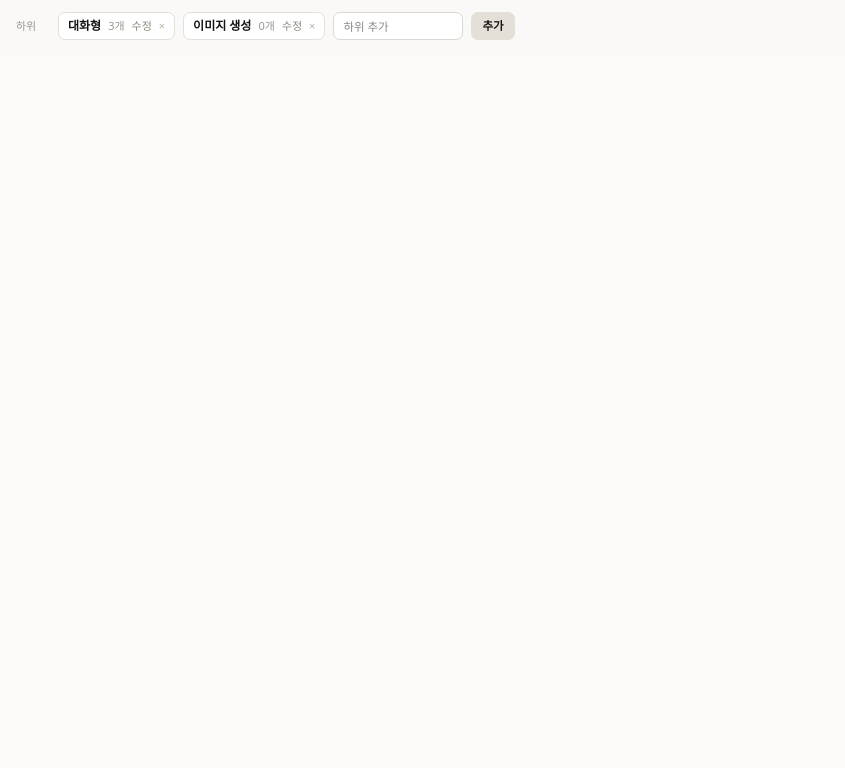
Test case: SubCategoryRow — 하위 추가 › 성공하면 입력을 비우고 프로토타입 문구로 알린다 (761행)
Type "코딩 보조" into the field named "새 하위 카테고리" at (398, 26), box [333,12,463,40]
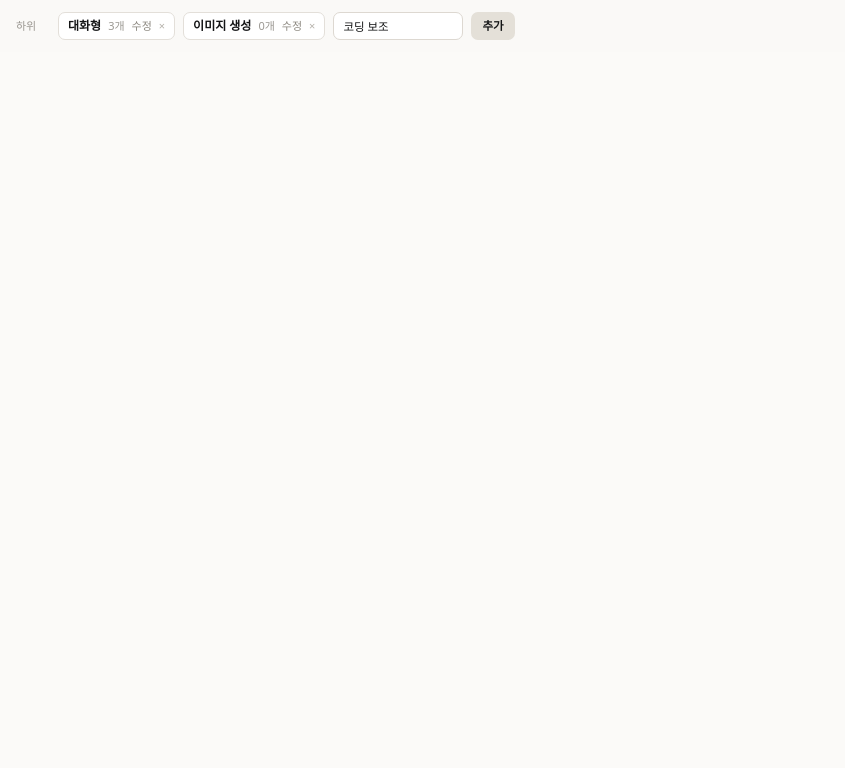
Click the button with aria-label "하위 카테고리 추가" at (493, 26), box [471,12,515,40]
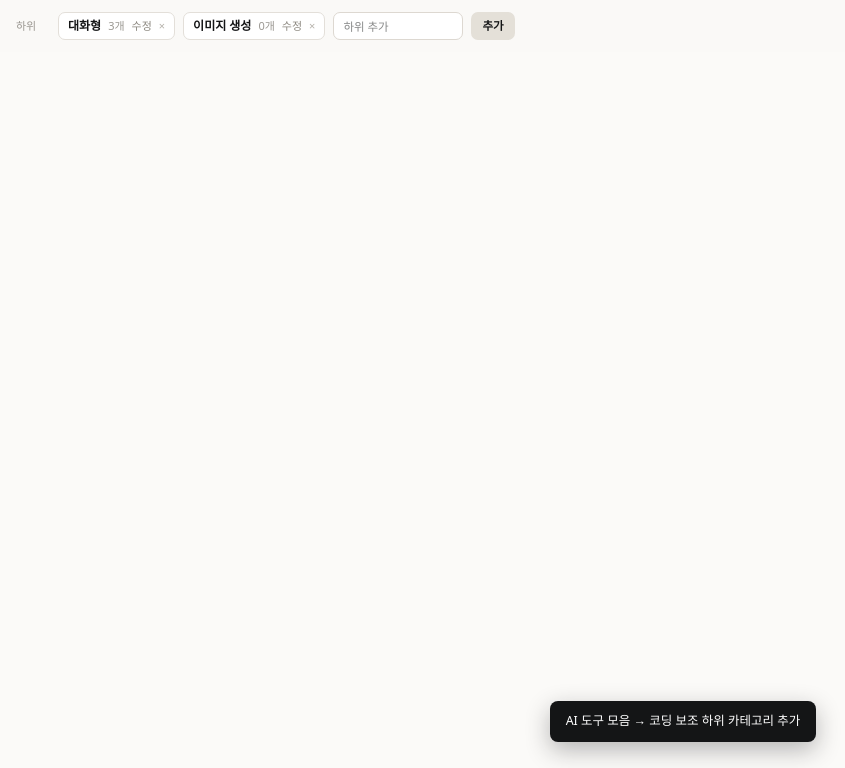
Check: the field named "새 하위 카테고리" is empty, box [333,12,463,40]
Check: the message reads "AI 도구 모음 → 코딩 보조 하위 카테고리 추가", box [566,712,800,729]
